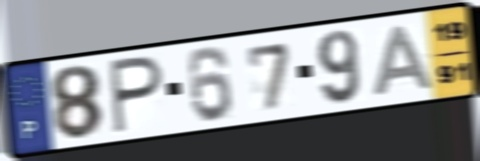6: (185, 44, 236, 126)
7: (243, 38, 294, 113)
8: (48, 61, 108, 142)
9: (316, 26, 367, 107)
A: (370, 22, 437, 100)
P: (107, 53, 167, 137)
